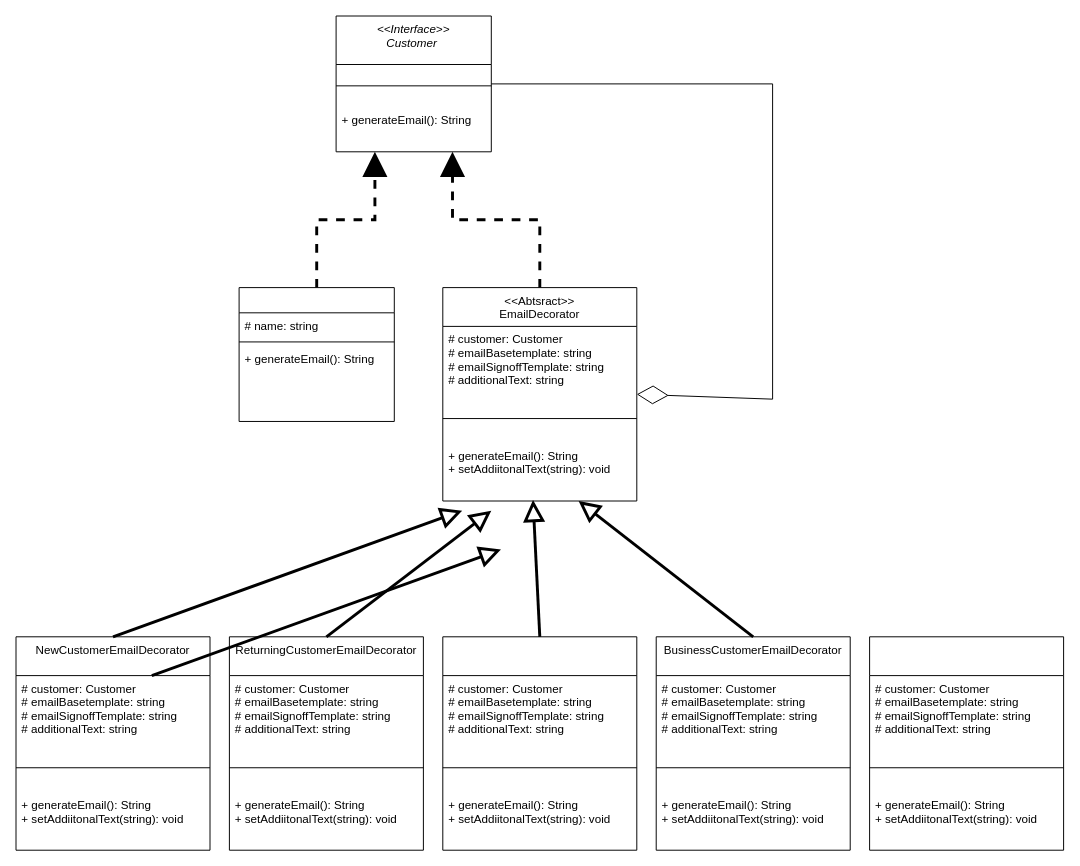
The diagram is 1080 pixels wide and 866 high, and some of its shapes have lost their labels. Each missing label, with the box of its shape:
ConcreteCustomer: (238, 287, 394, 421)
FrequentCustomerEmailDecorator: (442, 636, 637, 850)
VipCustomerEmailDecorator: (869, 636, 1064, 850)
